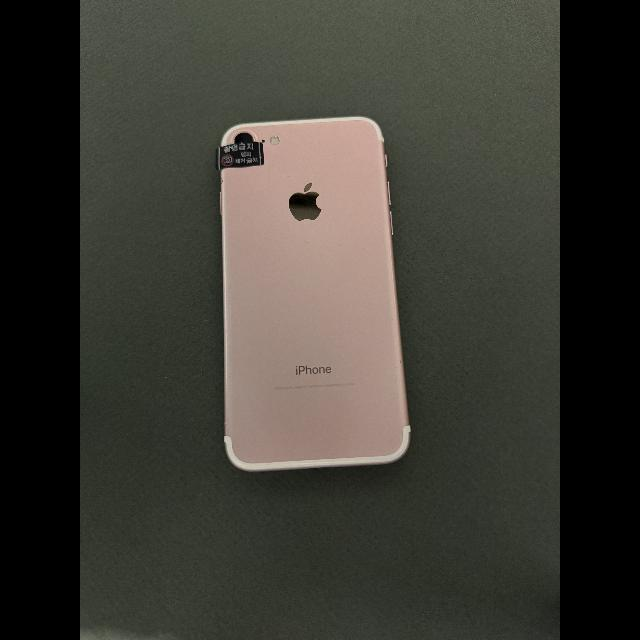lens: (235, 133, 253, 143)
phone: (220, 117, 411, 475)
sticker: (216, 142, 265, 170)
